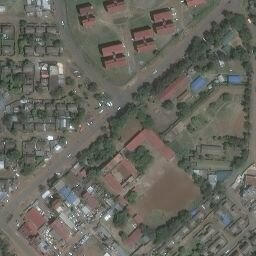tree: (112, 212, 126, 226), (5, 149, 20, 159), (161, 99, 174, 110), (126, 191, 136, 203), (86, 82, 97, 92), (37, 110, 47, 119), (221, 93, 231, 101), (65, 77, 74, 85), (118, 230, 127, 238), (176, 102, 185, 109), (53, 39, 60, 47), (19, 19, 26, 26), (153, 49, 160, 55)
